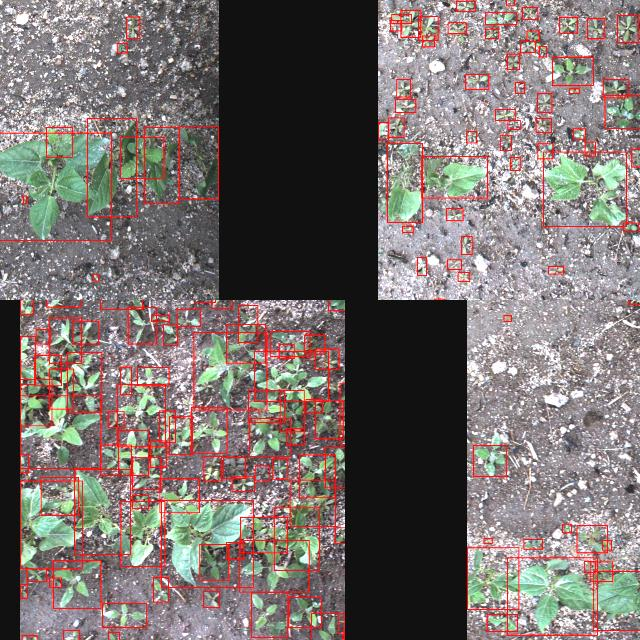crop: (0, 132, 111, 239), (161, 499, 253, 586), (506, 558, 596, 634), (542, 150, 626, 226), (19, 480, 81, 568), (86, 118, 136, 216), (74, 468, 130, 554), (466, 548, 518, 608), (178, 125, 218, 198), (120, 500, 164, 566), (386, 142, 422, 222), (274, 506, 318, 570), (593, 570, 640, 629), (421, 155, 487, 197), (144, 127, 178, 203), (377, 122, 387, 140)
weed: (20, 394, 100, 468), (194, 331, 266, 409), (254, 351, 328, 401), (239, 539, 309, 591), (116, 384, 166, 446), (52, 560, 100, 608), (66, 351, 102, 411), (289, 479, 335, 525), (120, 136, 164, 178), (240, 516, 286, 552), (251, 592, 287, 636), (299, 454, 335, 498), (190, 408, 226, 452), (225, 323, 265, 362), (250, 418, 290, 456), (19, 379, 51, 425), (48, 317, 80, 363), (40, 477, 78, 515), (159, 478, 199, 512), (118, 430, 148, 474), (604, 94, 640, 127), (552, 56, 592, 85), (248, 389, 284, 421), (102, 602, 146, 628), (472, 444, 506, 476), (127, 306, 155, 344), (315, 400, 343, 438), (270, 330, 310, 356), (288, 597, 322, 627), (200, 543, 228, 579), (100, 444, 130, 476), (48, 368, 72, 408), (280, 390, 304, 430), (310, 612, 343, 640), (168, 416, 192, 454), (132, 457, 160, 489), (34, 354, 61, 386), (576, 524, 606, 552), (325, 447, 345, 487), (46, 126, 72, 156), (238, 304, 258, 342), (20, 336, 34, 384), (136, 366, 168, 386), (616, 14, 638, 42), (72, 321, 98, 344), (400, 9, 420, 36), (602, 78, 628, 98), (159, 411, 175, 442), (417, 16, 437, 40), (315, 348, 339, 368), (486, 614, 516, 630), (223, 457, 245, 478), (590, 561, 612, 581), (203, 456, 221, 480), (152, 576, 168, 602), (149, 440, 165, 466), (177, 308, 200, 326), (304, 334, 324, 354), (484, 12, 516, 24), (339, 382, 345, 443), (586, 18, 604, 38), (464, 74, 488, 88), (387, 117, 403, 137), (272, 458, 288, 478), (162, 324, 178, 344), (126, 16, 140, 38), (232, 476, 254, 490), (536, 92, 552, 111), (559, 16, 577, 32), (226, 542, 244, 558), (286, 428, 304, 444), (395, 98, 415, 112), (120, 366, 130, 394), (203, 591, 219, 607), (107, 411, 123, 427), (395, 78, 409, 96), (494, 108, 514, 120), (26, 568, 46, 580), (506, 53, 520, 69), (132, 494, 148, 508), (254, 466, 270, 480), (35, 328, 49, 344), (306, 398, 322, 412), (278, 344, 294, 358), (522, 538, 542, 548), (536, 118, 550, 132), (538, 144, 552, 158), (521, 7, 537, 19), (446, 208, 462, 220), (461, 235, 471, 253), (456, 0, 474, 10), (416, 257, 426, 275), (447, 22, 465, 32), (63, 629, 79, 640), (334, 527, 345, 543), (19, 300, 32, 313), (631, 148, 640, 166), (500, 134, 510, 150), (391, 14, 411, 22), (337, 612, 345, 632), (520, 40, 534, 51), (573, 128, 585, 140), (19, 454, 27, 472), (583, 560, 595, 572), (510, 156, 520, 170), (446, 259, 460, 269), (585, 141, 595, 155), (484, 28, 498, 38), (466, 130, 476, 142), (526, 30, 538, 40), (422, 36, 434, 46), (49, 577, 61, 587), (624, 222, 638, 230), (548, 265, 562, 273), (514, 81, 524, 92), (150, 315, 168, 321), (117, 42, 127, 52), (390, 20, 400, 30), (107, 631, 118, 640), (19, 584, 26, 598), (457, 272, 469, 280), (507, 120, 519, 128), (538, 46, 546, 56), (602, 540, 610, 550), (20, 635, 35, 640), (562, 524, 570, 532), (402, 225, 412, 231), (503, 315, 511, 321), (483, 537, 491, 543), (569, 88, 579, 92), (506, 0, 514, 5), (92, 274, 98, 280), (22, 195, 26, 203), (434, 298, 444, 300)
